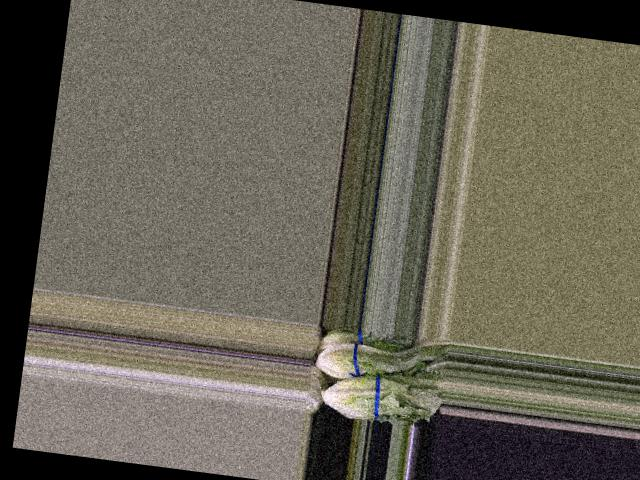lettuce: (313, 330, 425, 389)
